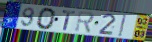2: (97, 13, 117, 36)
9: (19, 7, 37, 28)
I: (118, 14, 127, 38)
O: (36, 7, 57, 31)
R: (73, 10, 95, 35)
T: (62, 10, 76, 32)
